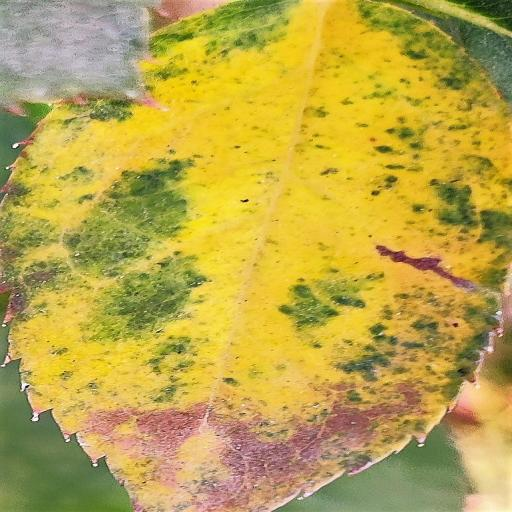red_mite: (1, 0, 511, 512)
